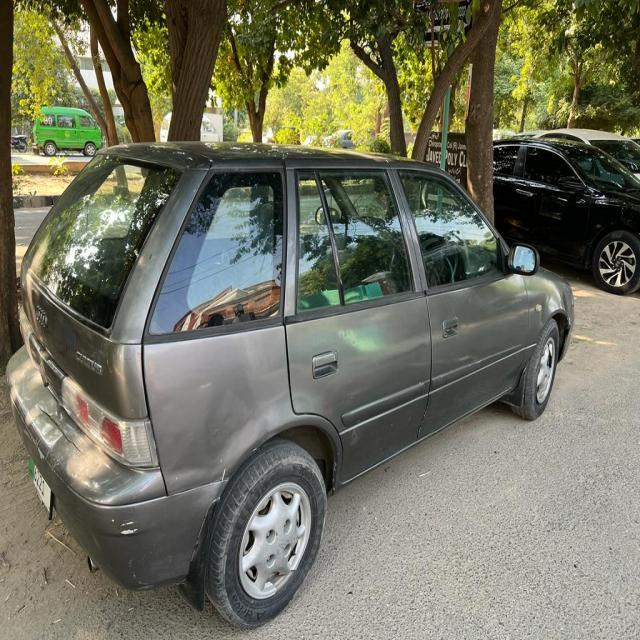scratch: (103, 501, 159, 555)
